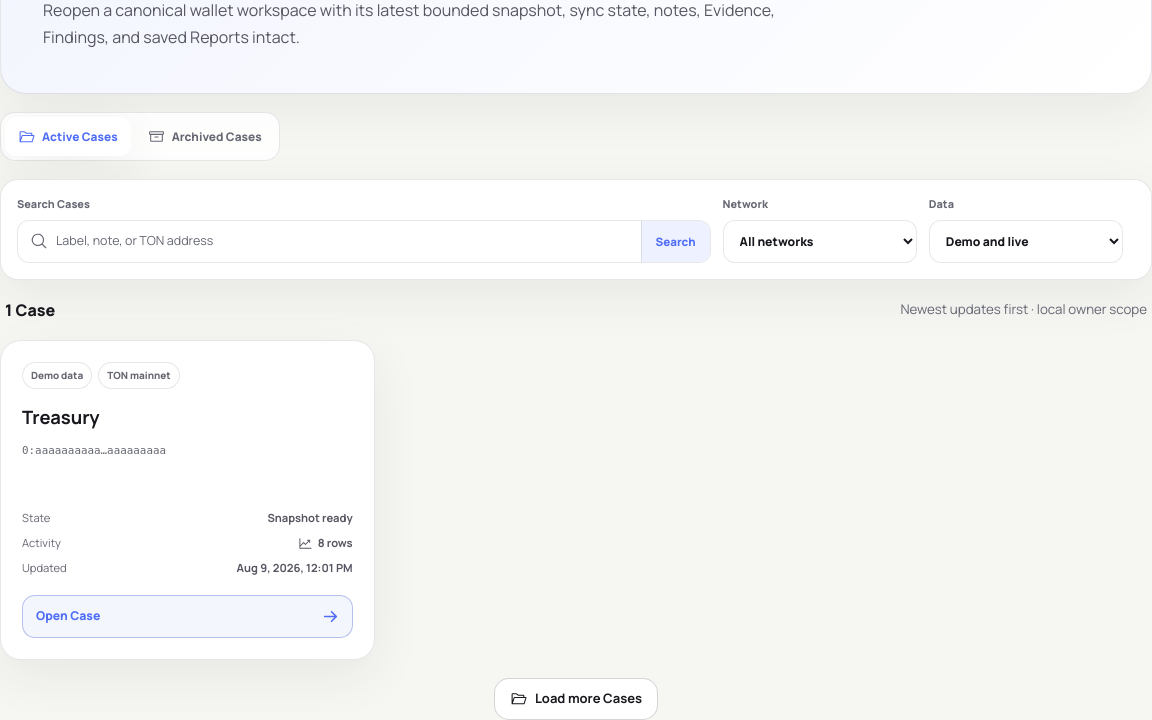
Test: GramCaseLibrary › keeps loaded Cases when a continuation overlaps the current catalog
The width and height of the screenshot is (1152, 720).
(page scrolled)
Check: the heading "Treasury" is shown, box [22,404,100,430]
Click the button "Load more Cases" at (576, 699), box [494,678,658,719]
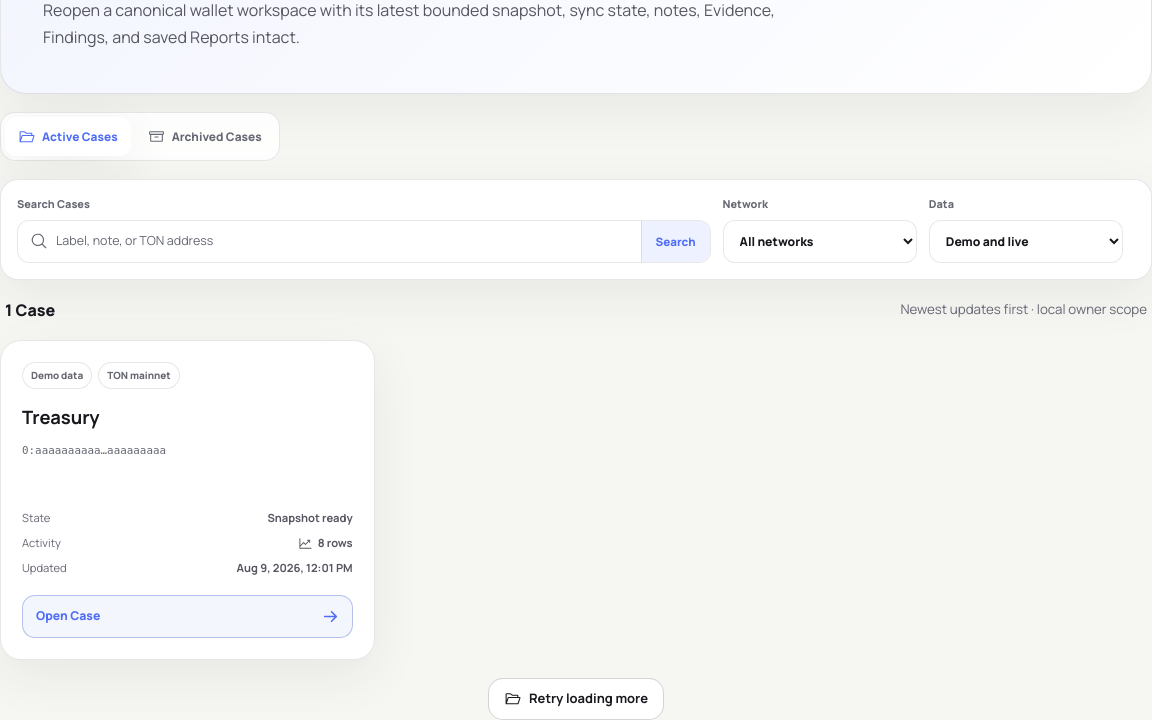
Check: the heading "Treasury" is shown, box [22,404,100,430]
Check: the button "Retry loading more" is shown, box [488,678,664,719]
